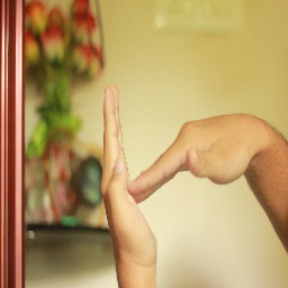Z: (92, 80, 264, 267)
